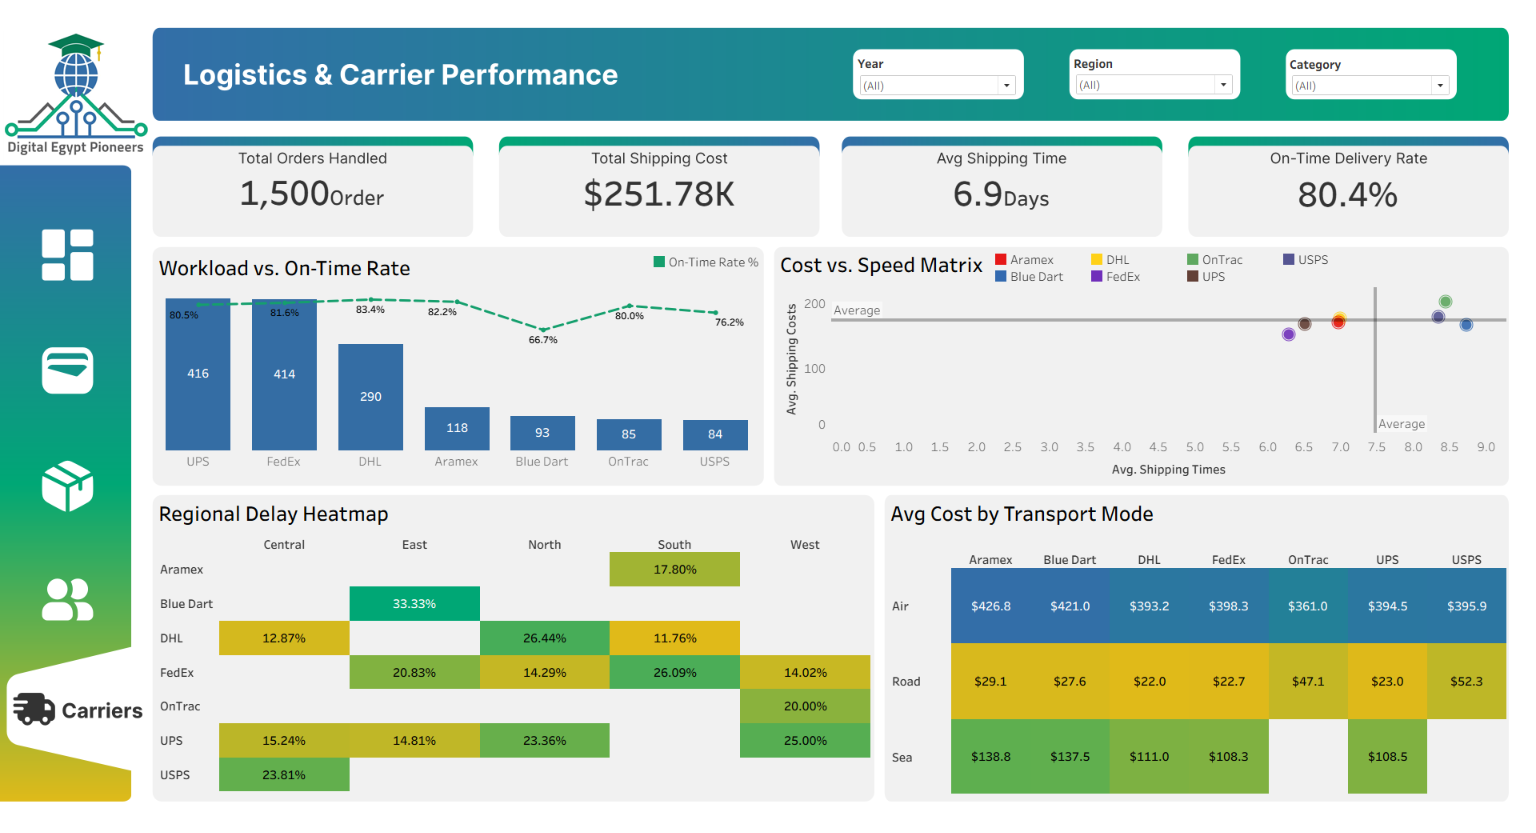

The page's visual inventory and layout, read from the dashboard file:
{"tool":"tableau","page":{"name":"Carrier Performance Dashboard","canvas":[1890,1042],"ordinal":0},"visuals":[{"type":"filter","title":"Sheet 34","param":"[federated.1a7ek0n1dui9pj16nsocf1yl686t].[yr:order_date:ok]","box":[1053,64.6,209,60.7]},{"type":"filter","title":"Sheet 34","param":"[federated.1a7ek0n1dui9pj16nsocf1yl686t].[none:region:nk]","box":[1323,64.6,210,59.7]},{"type":"filter","title":"Sheet 34","param":"[federated.1a7ek0n1dui9pj16nsocf1yl686t].[none:category:nk]","box":[1593,65.6,211,58.7]},{"type":"worksheet","title":"Total Orders Handled","mark":"Automatic","box":[175,182.9,400,114.3]},{"type":"worksheet","title":"On-Time Delivery Rate","mark":"Automatic","box":[1471,183.9,399,115.3]},{"type":"worksheet","title":"Total Shipping Cost","mark":"Automatic","box":[610,184.9,398,111.4]},{"type":"worksheet","title":"Avg Shipping Time","mark":"Automatic","box":[1038,185.9,398,110.4]},{"type":"dashboard-object","box":[3,246.6,141,125.3]},{"type":"legend","title":"Sheet 33","param":"[federated.1a7ek0n1dui9pj16nsocf1yl686t].[none:carrier_name:nk]","box":[1226,292,644,76]},{"type":"legend","title":"Sheet 34","param":"[federated.1a7ek0n1dui9pj16nsocf1yl686t].[:Measure Names]","box":[799,295,140,43]},{"type":"worksheet","title":"Sheet 33","mark":"Automatic","rows":["shipping_costs"],"cols":["shipping_times"],"box":[956,309,912,295]},{"type":"worksheet","title":"Sheet 34","mark":"Automatic","rows":["order_id","Calculation_2167205756968969"],"cols":["carrier_name"],"box":[178.9,313.3,754,290.5]},{"type":"dashboard-object","box":[2,397.7,141,124.3]},{"type":"dashboard-object","box":[3,542.9,141,125.3]},{"type":"worksheet","title":"Sheet 36","mark":"Square","rows":["carrier_name"],"cols":["region"],"box":[178.9,619.6,893.7,369.8]},{"type":"worksheet","title":"Sheet 35","mark":"Square","rows":["transportation_mode"],"cols":["carrier_name"],"box":[1093.8,619.6,774.1,372.8]},{"type":"dashboard-object","box":[2,684.1,141,124.3]}]}

Visuals, with their boxes in screenshot pixels (x1, y1, x2, y2), scaled from the page's 1890x1042 canvas onto the 1536x833 screenshot:
"Sheet 34" filter: (left=856, top=52, right=1026, bottom=100)
"Sheet 34" filter: (left=1075, top=52, right=1246, bottom=99)
"Sheet 34" filter: (left=1295, top=52, right=1466, bottom=99)
"Total Orders Handled" worksheet: (left=142, top=146, right=467, bottom=238)
"On-Time Delivery Rate" worksheet: (left=1195, top=147, right=1520, bottom=239)
"Total Shipping Cost" worksheet: (left=496, top=148, right=819, bottom=237)
"Avg Shipping Time" worksheet: (left=844, top=149, right=1167, bottom=237)
dashboard-object: (left=2, top=197, right=117, bottom=297)
"Sheet 33" legend: (left=996, top=233, right=1520, bottom=294)
"Sheet 34" legend: (left=649, top=236, right=763, bottom=270)
"Sheet 33" worksheet: (left=777, top=247, right=1518, bottom=483)
"Sheet 34" worksheet: (left=145, top=250, right=758, bottom=483)
dashboard-object: (left=2, top=318, right=116, bottom=417)
dashboard-object: (left=2, top=434, right=117, bottom=534)
"Sheet 36" worksheet (Square marks): (left=145, top=495, right=872, bottom=791)
"Sheet 35" worksheet (Square marks): (left=889, top=495, right=1518, bottom=793)
dashboard-object: (left=2, top=547, right=116, bottom=646)
